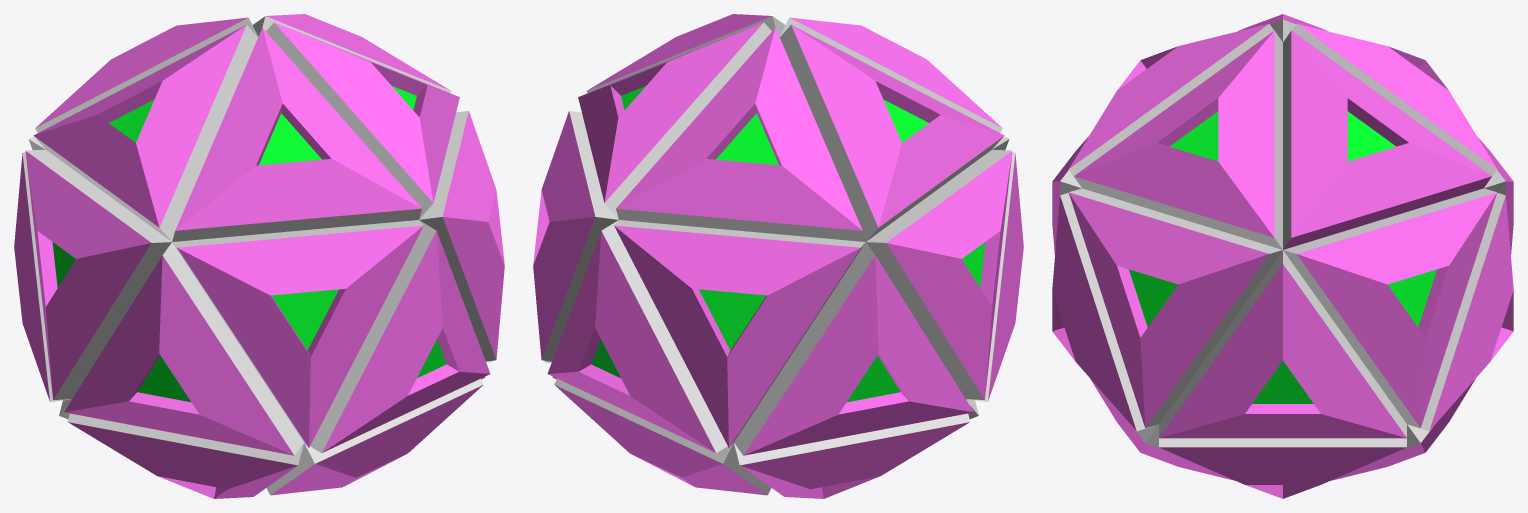
The model's file is ball3.fbx.
3 renders of one model, left to right at view 1: azimuth 30°, elevation 25°; view 2: azimuth 150°, elevation 25°; view 3: azimuth 270°, elevation 25°, orthographic.
Visible parts, largest first — view 1: Icosphere.002; view 2: Icosphere.002; view 3: Icosphere.002.
Part boxes in pixels (x1,y1,x2,y2): Icosphere.002: (14, 14, 504, 498); Icosphere.002: (533, 14, 1023, 498); Icosphere.002: (1052, 14, 1513, 498).
Size of the model in its own units: 206 by 216 by 195.
